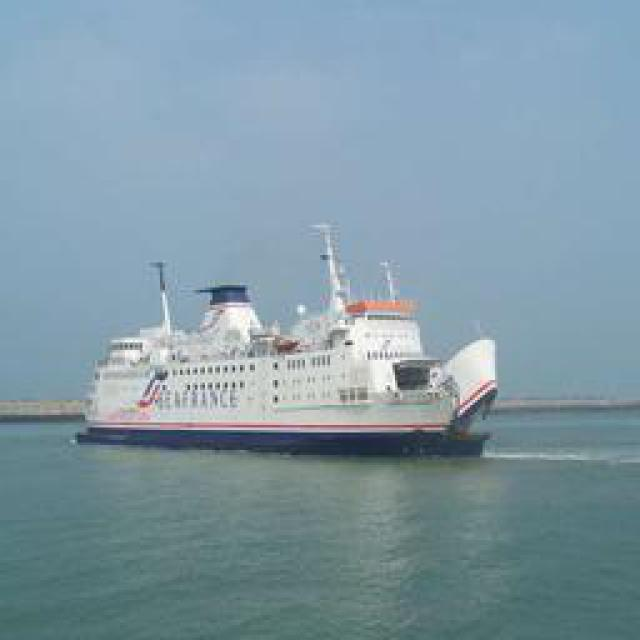Ship: (85, 218, 508, 456)
